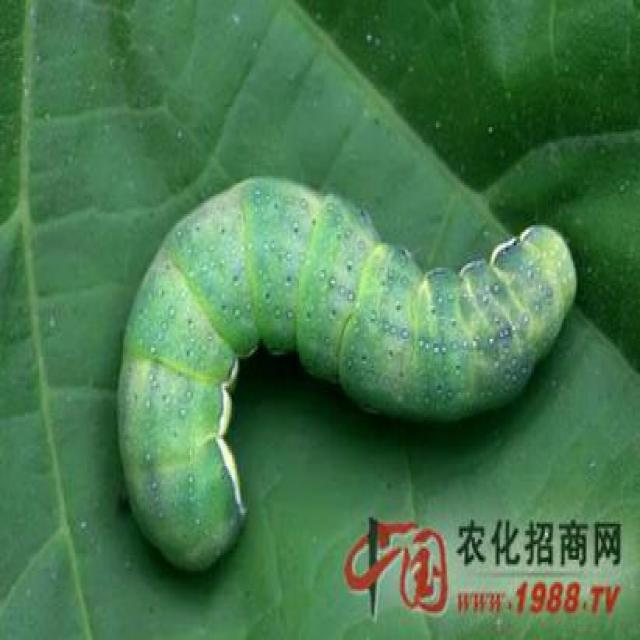BeetArmyWorm-Larva-: (104, 166, 586, 584)
